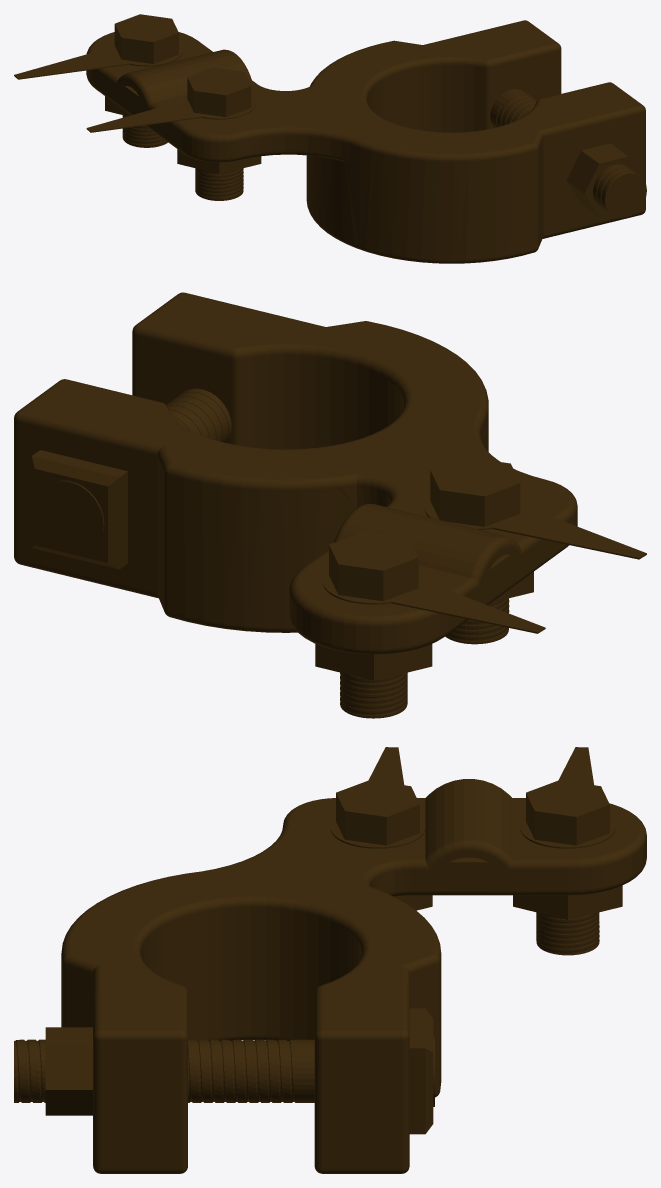
File: Clamp 1.fbx
3 views of the same model, one above another, from view 1: azimuth 30°, elevation 25°; view 2: azimuth 150°, elevation 25°; view 3: azimuth 270°, elevation 25° (orthographic). The views are drawn at different scales.
Parts seen in each view (by area): view 1: Shape_IndexedFaceSet.005, Shape_IndexedFaceSet.008, Shape_IndexedFaceSet.007, Shape_IndexedFaceSet.003, Shape_IndexedFaceSet.004, Shape_IndexedFaceSet.002, Shape_IndexedFaceSet.006, Shape_IndexedFaceSet.001; view 2: Shape_IndexedFaceSet.005, Shape_IndexedFaceSet.003, Shape_IndexedFaceSet.007, Shape_IndexedFaceSet.008, Shape_IndexedFaceSet.006, Shape_IndexedFaceSet.002, Shape_IndexedFaceSet; view 3: Shape_IndexedFaceSet.005, Shape_IndexedFaceSet.003, Shape_IndexedFaceSet.007, Shape_IndexedFaceSet.008, Shape_IndexedFaceSet.004, Shape_IndexedFaceSet, Shape_IndexedFaceSet.002, Shape_IndexedFaceSet.006.
Part boxes in pixels (box(x1,y1,x2,y2)): Shape_IndexedFaceSet.005: box(86, 20, 645, 263); Shape_IndexedFaceSet.008: box(187, 67, 251, 200); Shape_IndexedFaceSet.007: box(114, 14, 178, 147); Shape_IndexedFaceSet.003: box(490, 89, 646, 217); Shape_IndexedFaceSet.004: box(566, 143, 641, 216); Shape_IndexedFaceSet.002: box(86, 96, 255, 132); Shape_IndexedFaceSet.006: box(14, 43, 182, 79); Shape_IndexedFaceSet.001: box(177, 149, 261, 173); Shape_IndexedFaceSet.005: box(14, 292, 577, 654); Shape_IndexedFaceSet.003: box(31, 388, 231, 569); Shape_IndexedFaceSet.007: box(329, 531, 418, 718); Shape_IndexedFaceSet.008: box(430, 457, 520, 644); Shape_IndexedFaceSet.006: box(323, 572, 545, 633); Shape_IndexedFaceSet.002: box(424, 498, 646, 559); Shape_IndexedFaceSet: box(315, 644, 432, 680); Shape_IndexedFaceSet.005: box(61, 779, 646, 1173); Shape_IndexedFaceSet.003: box(14, 1008, 434, 1134); Shape_IndexedFaceSet.007: box(526, 780, 609, 955); Shape_IndexedFaceSet.008: box(336, 780, 419, 845); Shape_IndexedFaceSet.004: box(45, 1027, 92, 1115); Shape_IndexedFaceSet: box(513, 885, 622, 919); Shape_IndexedFaceSet.002: box(330, 747, 425, 848); Shape_IndexedFaceSet.006: box(520, 747, 615, 848).
Bounding box in the file's own units: 4.26 × 1.21 × 4.
